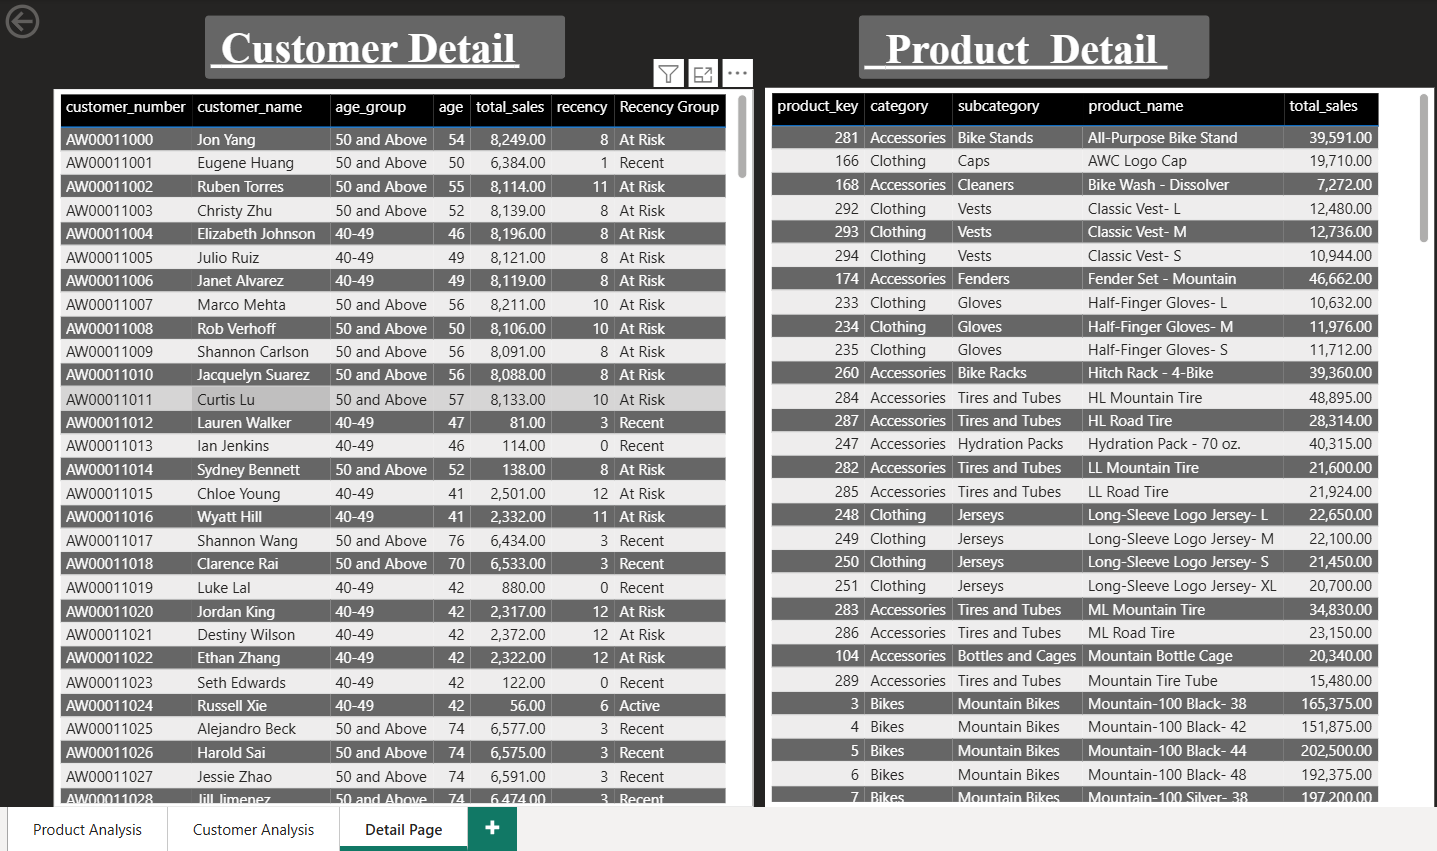

What the dashboard file says about the page in this screenshot:
{"tool":"powerbi","page":{"name":"Detail Page","canvas":[1280,720],"ordinal":2},"visuals":[{"type":"tableEx","fields":{"Values":["customer_report.customer_number","customer_report.customer_name","customer_report.age_group","customer_report.age","customer_report.total_sales","customer_report.recency","customer_report.Recency Group"]},"box":[48.3,79.6,622.5,640.6],"z":0},{"type":"tableEx","fields":{"Values":["product_report.product_key","product_report.category","product_report.subcategory","product_report.product_name","product_report.total_sales"]},"box":[681.7,79.3,596,640.8],"z":1000},{"type":"shape","box":[182.2,14.5,320.9,56.7],"z":2000},{"type":"textbox","box":[182.2,16.9,284.7,54.3],"z":3000},{"type":"shape","box":[764.9,14.5,312.5,56.7],"z":4000},{"type":"textbox","box":[764.9,18.1,295.6,53.1],"z":5000},{"type":"actionButton","box":[0,0,100,40],"z":5001}]}

Visuals, with their boxes on the page's 1280x720 design canvas (x1, y1, x2, y2). These are canvas units, not pixel positions in the 1437x851 screenshot, which may show the page scaled, cropped or inside an application window:
tableEx - customer_report.customer_number x customer_report.customer_name: 48/80/671/720
tableEx - product_report.product_key x product_report.category: 682/79/1278/720
shape: 182/14/503/71
textbox: 182/17/467/71
shape: 765/14/1077/71
textbox: 765/18/1060/71
actionButton: 0/0/100/40
